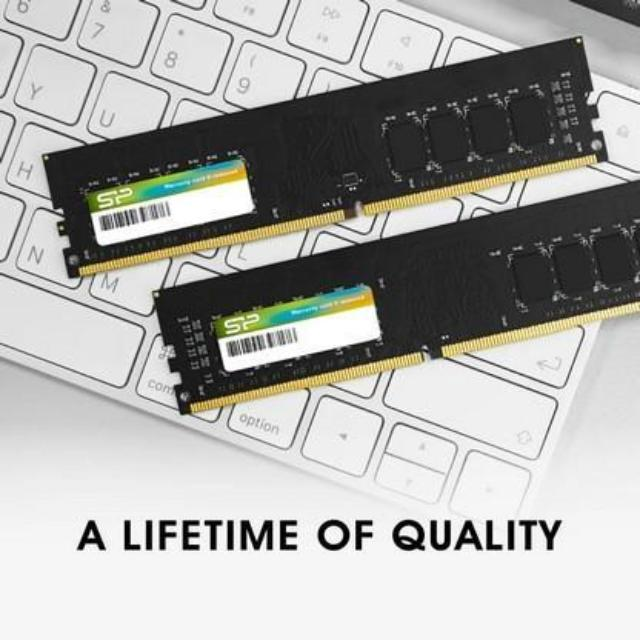RAM: (42, 23, 610, 278), (154, 194, 640, 429)
